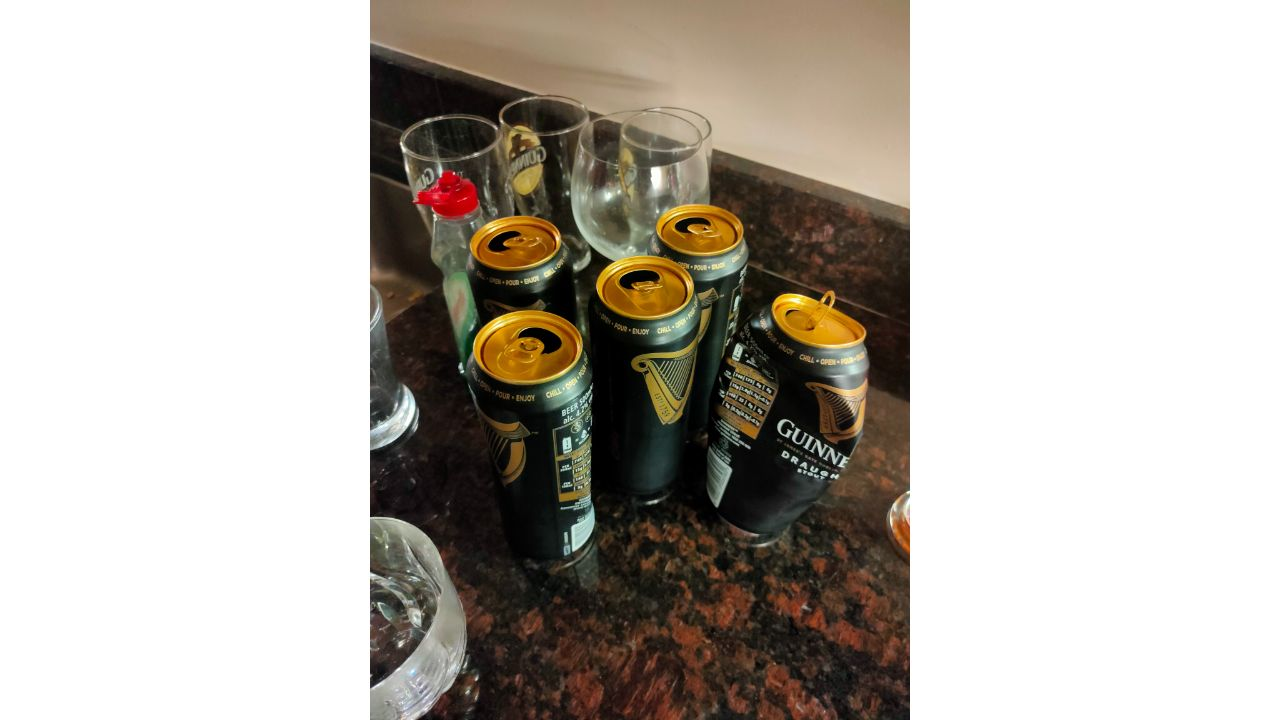Can: (705, 292, 871, 544), (459, 309, 602, 569), (585, 258, 708, 507), (651, 204, 751, 389), (457, 215, 574, 349)
